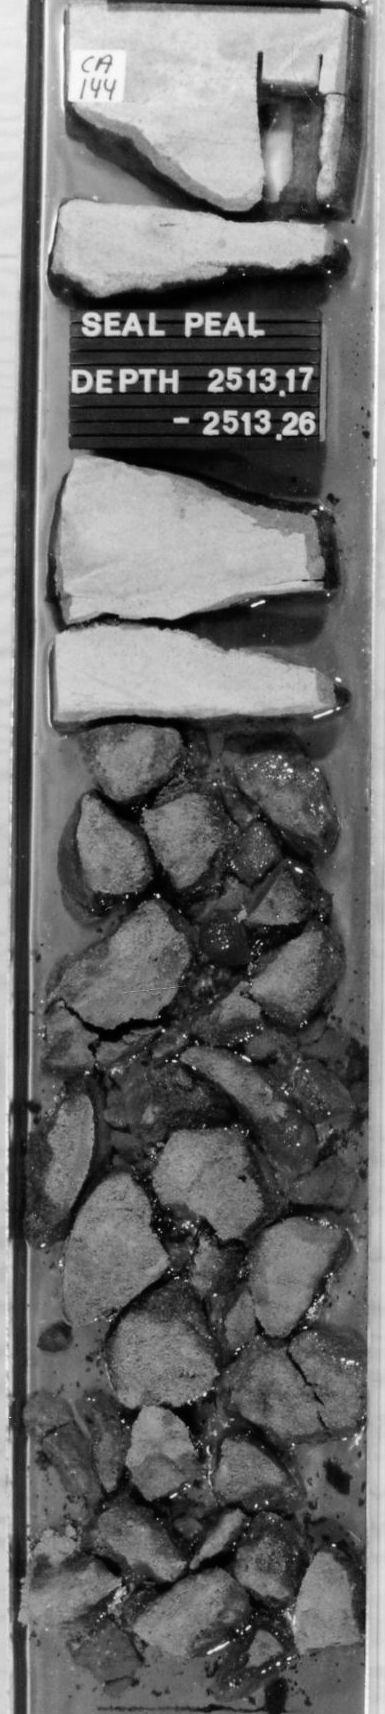hplug: (66, 103, 221, 222)
scal: (152, 563, 323, 691)
vplug: (238, 42, 332, 212)
